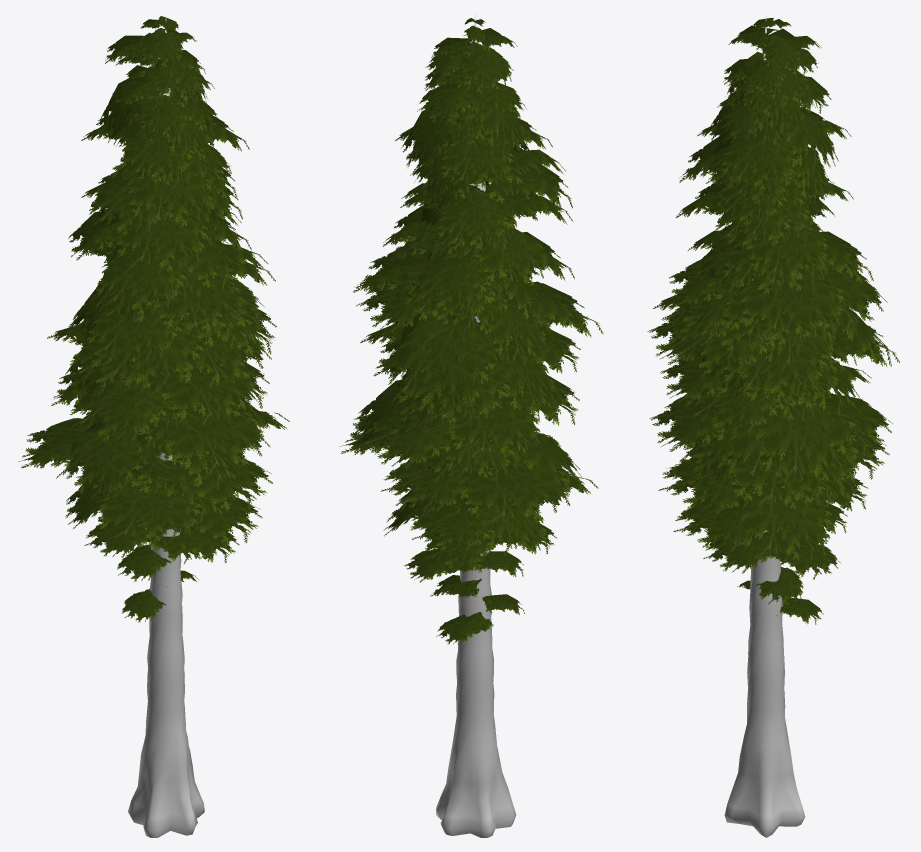
File: TreeMedium001.fbx
3 views of the same model, side by side, from view 1: azimuth 30°, elevation 25°; view 2: azimuth 150°, elevation 25°; view 3: azimuth 270°, elevation 25° (orthographic).
Parts seen in each view (by area): view 1: TreeMedium001_LOD0; view 2: TreeMedium001_LOD0; view 3: TreeMedium001_LOD0.
Boxes of the visible parts, x1,y1,x2,y2 form: TreeMedium001_LOD0: (18, 16, 289, 837); TreeMedium001_LOD0: (339, 14, 603, 837); TreeMedium001_LOD0: (647, 16, 899, 837).
Size of the model in its own units: 1033 by 3089 by 928.
